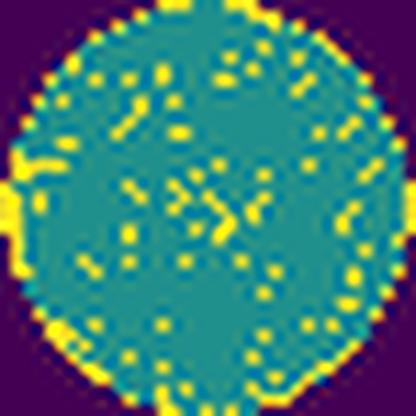Edge-Loc: (0, 182, 40, 282)
